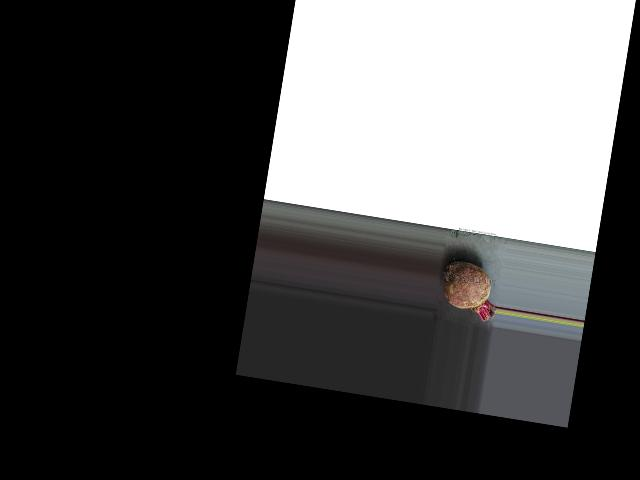beet: (438, 259, 502, 322)
